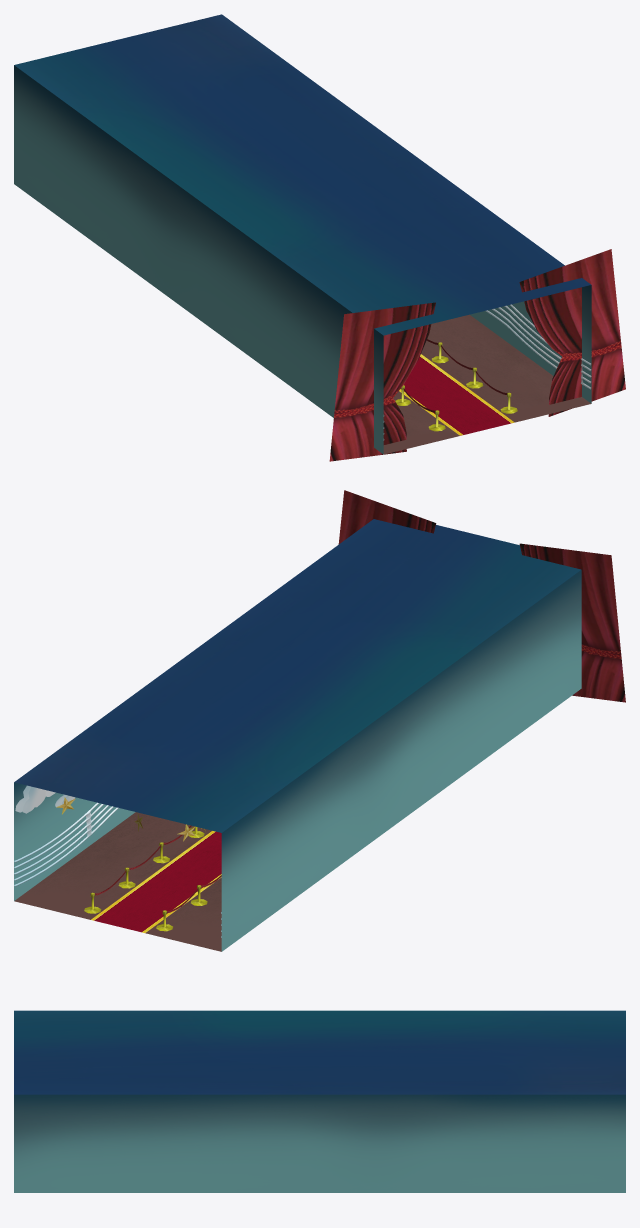
Rendered from raku-2.fbx.
3 renders of one model, top to bottom at view 1: azimuth 30°, elevation 25°; view 2: azimuth 150°, elevation 25°; view 3: azimuth 270°, elevation 25°, orthographic. The views are drawn at different scales.
Parts seen in each view (by area): view 1: sky, wall_R, floor, katen_R, katen_L, wall_L; view 2: sky, wall_R, floor, wall_L, katen_R, katen_L; view 3: wall_L, sky.
Boxes of the visible parts, <box> form: sky: <box>14,14,590,335</box>; wall_R: <box>14,65,384,454</box>; floor: <box>383,314,590,454</box>; katen_R: <box>329,302,435,461</box>; katen_L: <box>519,249,625,416</box>; wall_L: <box>470,285,591,403</box>; sky: <box>14,519,580,832</box>; wall_R: <box>221,570,581,951</box>; floor: <box>14,812,221,951</box>; wall_L: <box>14,782,135,900</box>; katen_R: <box>519,543,625,702</box>; katen_L: <box>338,490,436,544</box>; wall_L: <box>14,1094,625,1192</box>; sky: <box>14,1010,625,1094</box>.
Bounding box in the file's own units: 2708 × 1335 × 5850.
Materials: 1 (1 with a texture image).
